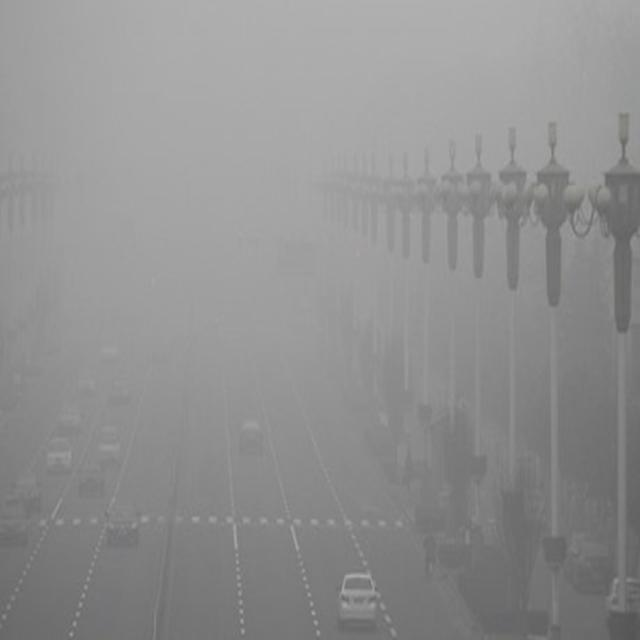car: (337, 574, 381, 628), (572, 537, 610, 586), (1, 494, 29, 546), (105, 497, 137, 542), (604, 577, 638, 615), (43, 437, 73, 471), (15, 464, 40, 502), (238, 422, 264, 453), (78, 456, 100, 492), (98, 428, 120, 458), (57, 402, 79, 429), (110, 372, 130, 399), (74, 372, 94, 394), (100, 340, 116, 360)
